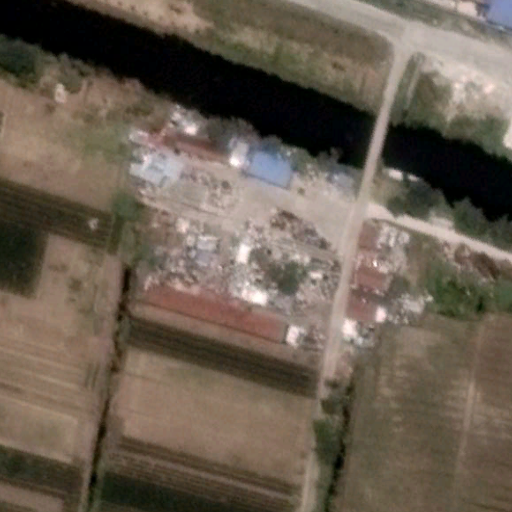msw: (145, 205, 341, 314)
